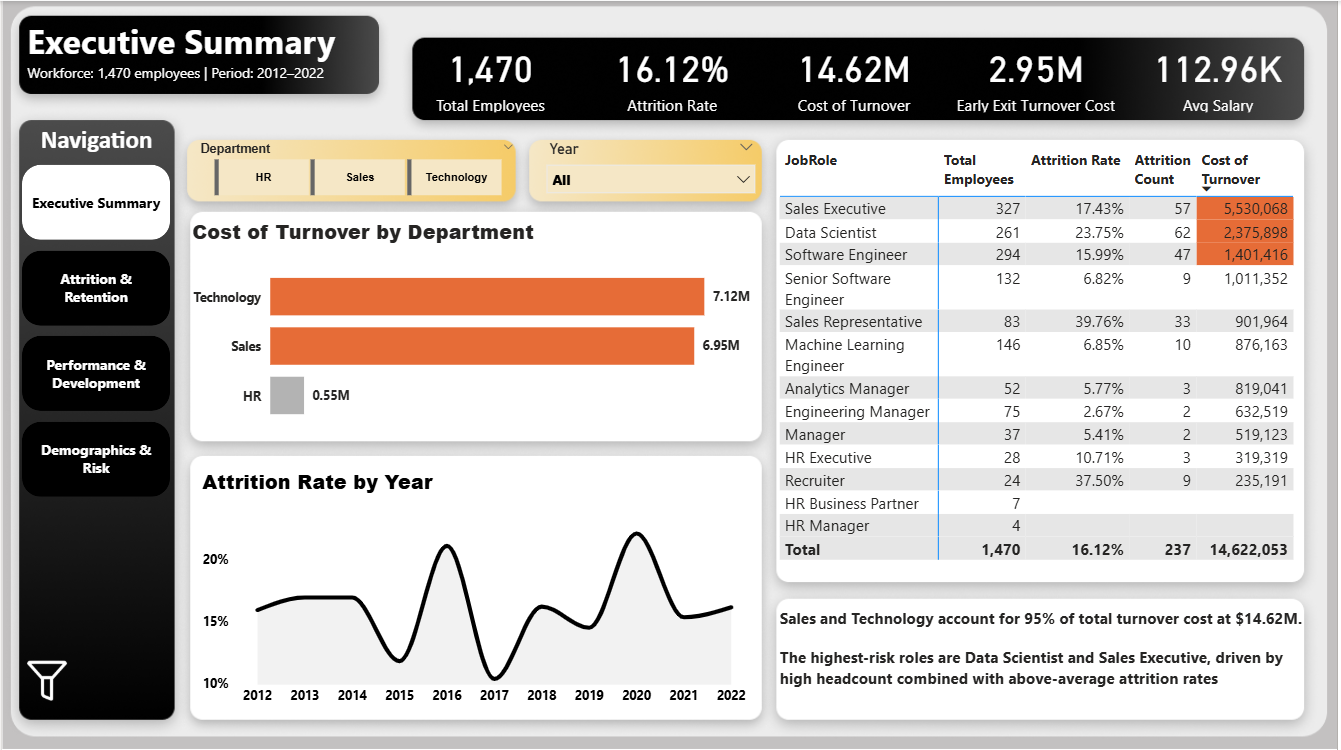

What the dashboard file says about the page in this screenshot:
{"tool":"powerbi","page":{"name":"Executive Summary","canvas":[1280,720],"ordinal":0},"visuals":[{"type":"card","fields":{"Values":["_Measures.Total Employees"]},"box":[383.6,32.6,170.1,79.6],"z":0},{"type":"card","fields":{"Values":["_Measures.Attrition Rate"]},"box":[557.7,32.4,171,79.8],"z":1000},{"type":"card","fields":{"Values":["_Measures.Cost of Turnover"]},"box":[732.5,32.4,169.7,79.8],"z":2000},{"type":"card","fields":{"Values":["_Measures.Early Exit Turnover Cost"]},"box":[906.1,32.4,171,79.8],"z":3000},{"type":"card","fields":{"Values":["_Measures.Avg Salary"]},"box":[1081,32.6,170.1,79.6],"z":4000},{"type":"barChart","fields":{"Y":["_Measures.Cost of Turnover"],"Category":["DimEmployee.Department"]},"box":[177.5,207.8,545.4,215],"z":5000},{"type":"lineChart","fields":{"Y":["_Measures.Attrition Rate"],"Category":["DimDate.Date.Variation.Date Hierarchy.Year","DimDate.Date.Variation.Date Hierarchy.Quarter","DimDate.Date.Variation.Date Hierarchy.Month","DimDate.Date.Variation.Date Hierarchy.Day"]},"box":[187,447.6,535.7,237.7],"z":6000},{"type":"pivotTable","fields":{"Rows":["DimEmployee.JobRole"],"Values":["_Measures.Total Employees","_Measures.Attrition Rate","_Measures.Attrition Count","_Measures.Cost of Turnover"]},"box":[740.3,136.2,510.7,417.4],"z":7000},{"type":"textbox","box":[740.8,576.7,518.8,108.6],"z":8000},{"type":"textbox","box":[19.3,12.1,364.3,79.6],"z":9000},{"type":"pageNavigator","box":[19.7,157.4,143,320],"z":10000},{"type":"slicer","fields":{"Values":["DimDate.Year"]},"box":[512,128.6,220.7,58],"z":11000},{"type":"slicer","fields":{"Values":["DimEmployee.Department"]},"box":[177.3,129.1,325.7,63.9],"z":12000},{"type":"image","box":[19.7,617.7,48.5,68.2],"z":13000},{"type":"textbox","box":[19.7,112.8,143,43.3],"z":13001}]}

Visuals, with their boxes in screenshot pixels (x1, y1, x2, y2), scaled from the page's 1280x720 canvas onto the 1341x750 screenshot:
card - _Measures.Total Employees: [402,34,580,117]
card - _Measures.Attrition Rate: [584,34,763,117]
card - _Measures.Cost of Turnover: [767,34,945,117]
card - _Measures.Early Exit Turnover Cost: [949,34,1128,117]
card - _Measures.Avg Salary: [1133,34,1311,117]
barChart - _Measures.Cost of Turnover x DimEmployee.Department: [186,216,757,440]
lineChart - _Measures.Attrition Rate x DimDate.Date.Variation.Date Hierarchy.Year: [196,466,757,714]
pivotTable - DimEmployee.JobRole x _Measures.Total Employees: [776,142,1311,577]
textbox: [776,601,1320,714]
textbox: [20,13,402,96]
pageNavigator: [21,164,170,497]
slicer - DimDate.Year: [536,134,768,194]
slicer - DimEmployee.Department: [186,134,527,201]
image: [21,643,71,714]
textbox: [21,118,170,163]
